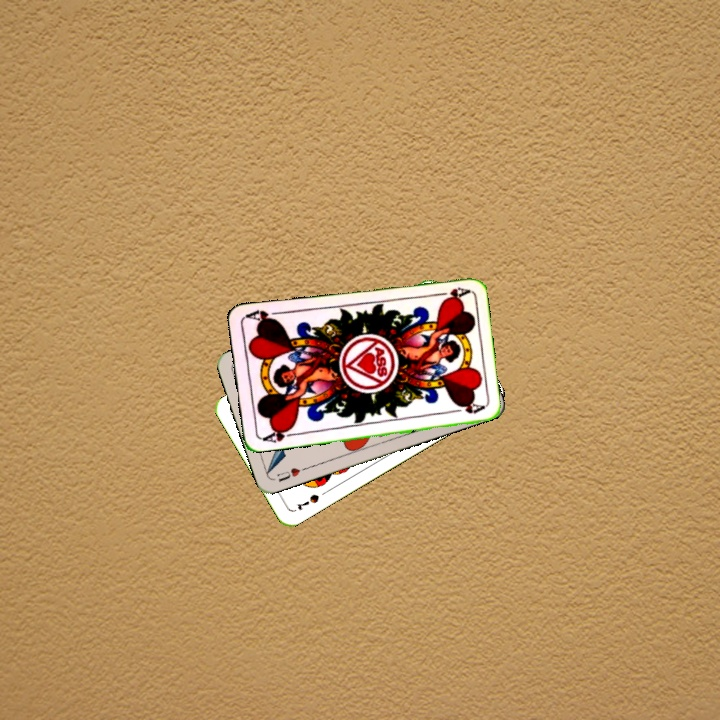HA: (257, 423, 298, 445), (430, 283, 471, 303)
HU: (273, 463, 310, 484)
S7: (292, 490, 322, 513)
